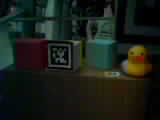duck: (116, 38, 145, 79)
